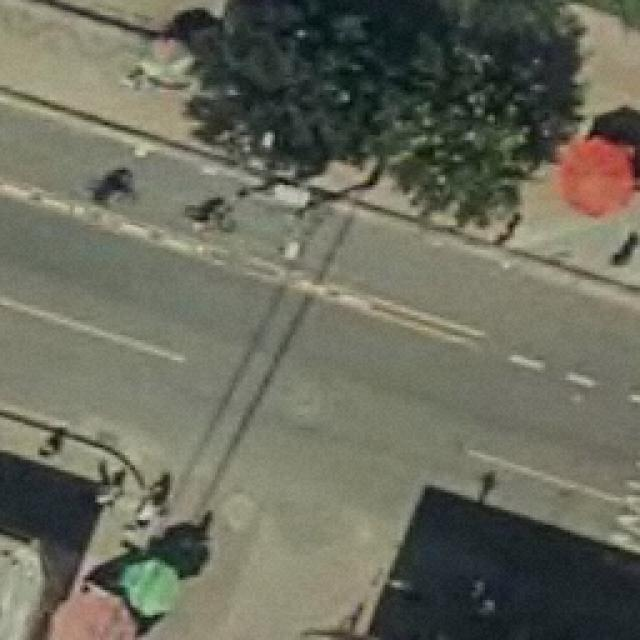vendedor_ambulante: (553, 134, 640, 222), (113, 555, 183, 620)
